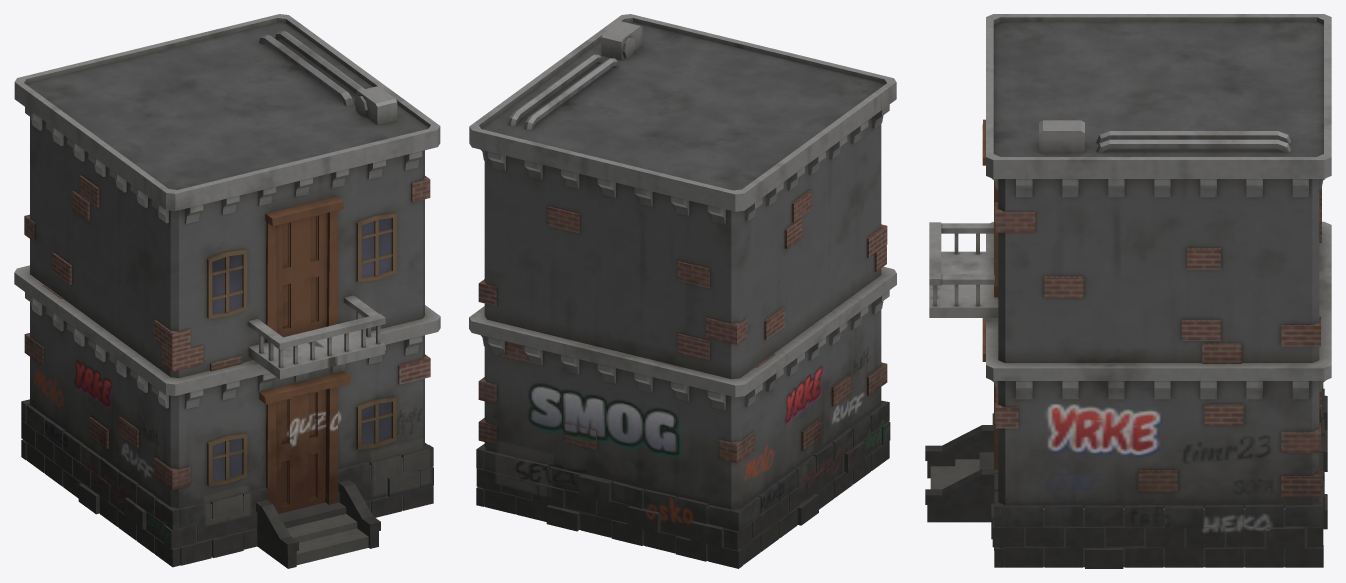
The model's file is 2Story_Balcony.glb.
3 views of the same model, side by side, from view 1: azimuth 30°, elevation 25°; view 2: azimuth 150°, elevation 25°; view 3: azimuth 270°, elevation 25° (orthographic). The views are drawn at different scales.
Parts seen in each view (by area): view 1: 2Story_Balcony_low; view 2: 2Story_Balcony_low; view 3: 2Story_Balcony_low.
Boxes of the visible parts, left/top/right/bottom form: 2Story_Balcony_low: left=14, top=14, right=440, bottom=568; 2Story_Balcony_low: left=469, top=14, right=896, bottom=568; 2Story_Balcony_low: left=925, top=14, right=1331, bottom=568.
Bounding box in the file's own units: 2.16 × 2.94 × 2.53.
2 materials, 2 textured.
